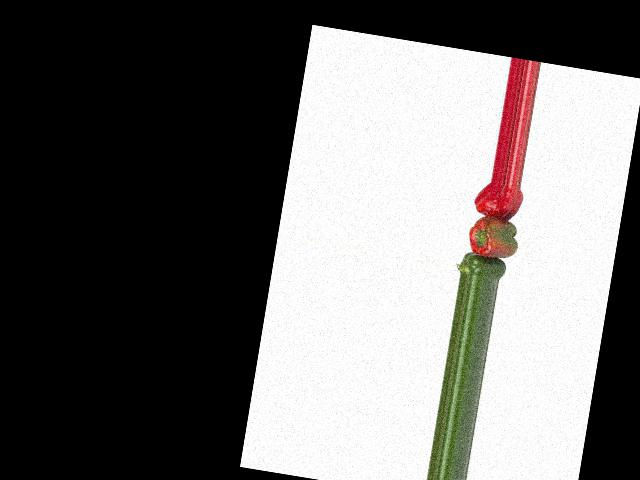bell_pepper: (468, 179, 527, 223)
